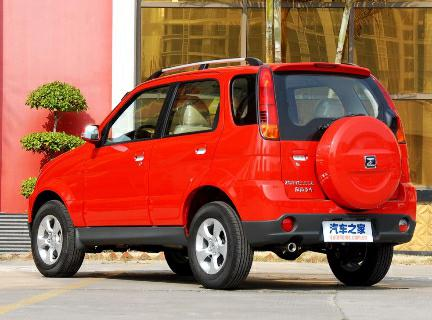众泰-5008: (21, 56, 417, 300)
